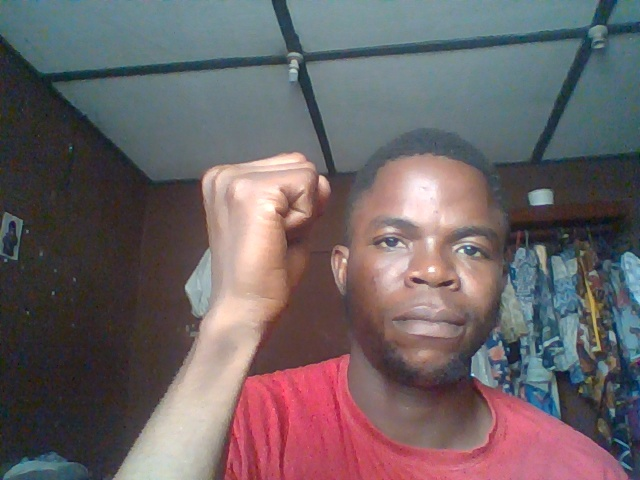Unity: (170, 150, 352, 343)
